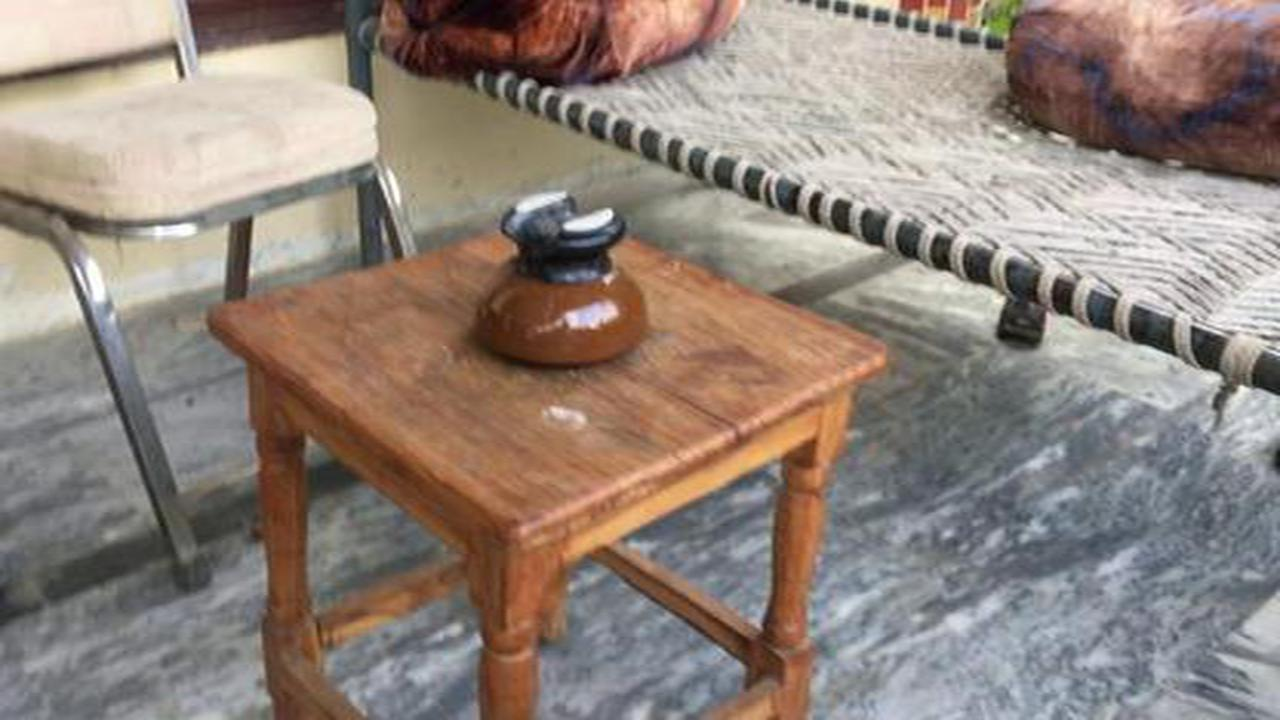insulator_pin: (456, 171, 668, 381)
